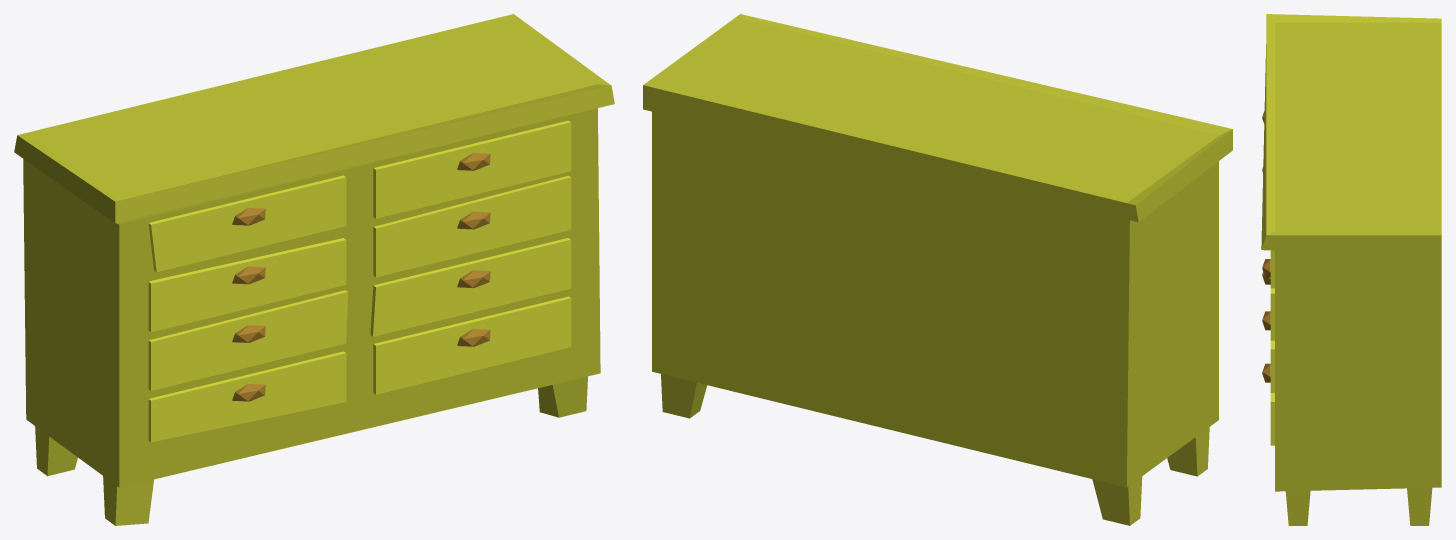
Rendered from dresser.fbx.
3 views of the same model, side by side, from view 1: azimuth 30°, elevation 25°; view 2: azimuth 150°, elevation 25°; view 3: azimuth 270°, elevation 25° (orthographic). The views are drawn at different scales.
Visible parts, largest first — view 1: Dresser; view 2: Dresser; view 3: Dresser.
Part boxes in pixels (x1=…): Dresser: x1=14, y1=14, x2=614, y2=525; Dresser: x1=643, y1=14, x2=1232, y2=525; Dresser: x1=1261, y1=14, x2=1441, y2=525.
Size of the model in its own units: 319 by 112 by 205.
